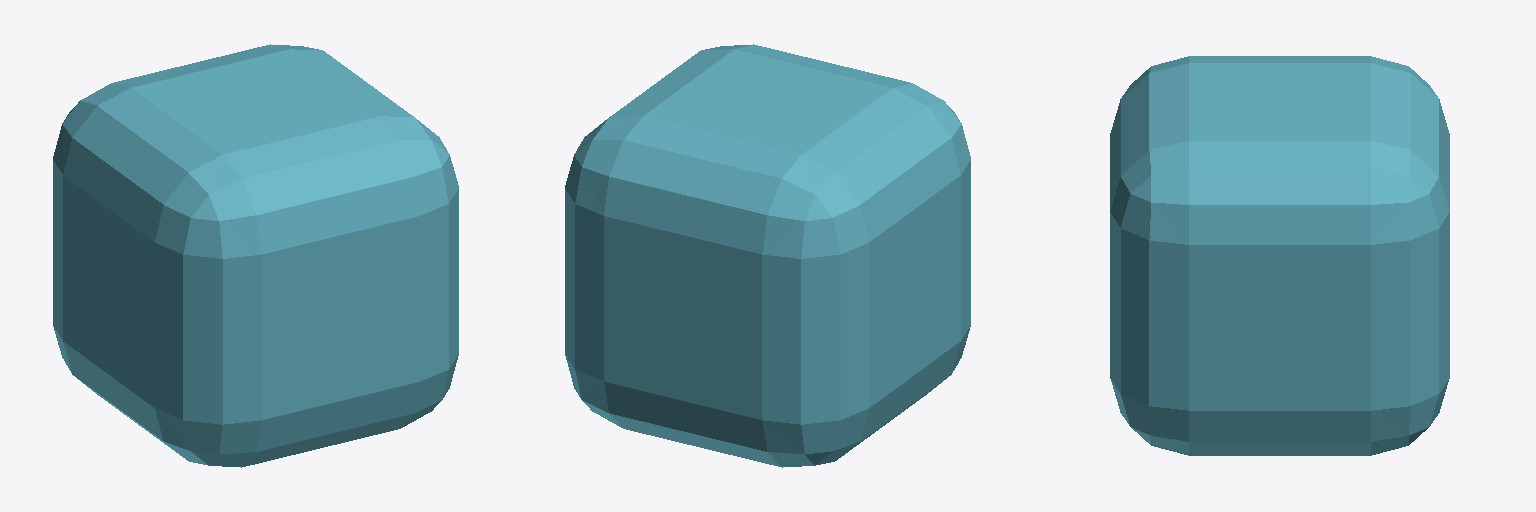
The model's file is frozen pepperoni.obj.
3 renders of one model, left to right at view 1: azimuth 30°, elevation 25°; view 2: azimuth 150°, elevation 25°; view 3: azimuth 270°, elevation 25°, orthographic.
Parts seen in each view (by area): view 1: frozen_pepperoni_Cube.014; view 2: frozen_pepperoni_Cube.014; view 3: frozen_pepperoni_Cube.014.
Part boxes in pixels (bbox=[...]): frozen_pepperoni_Cube.014: bbox=[53, 44, 458, 467]; frozen_pepperoni_Cube.014: bbox=[565, 44, 970, 467]; frozen_pepperoni_Cube.014: bbox=[1110, 56, 1449, 455].
Bounding box in the file's own units: 2.08 × 2.08 × 2.08.